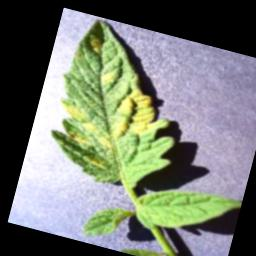Leaf_Mold: (48, 68, 166, 159), (65, 128, 93, 146), (84, 153, 110, 171), (89, 35, 105, 54), (99, 69, 115, 86)
